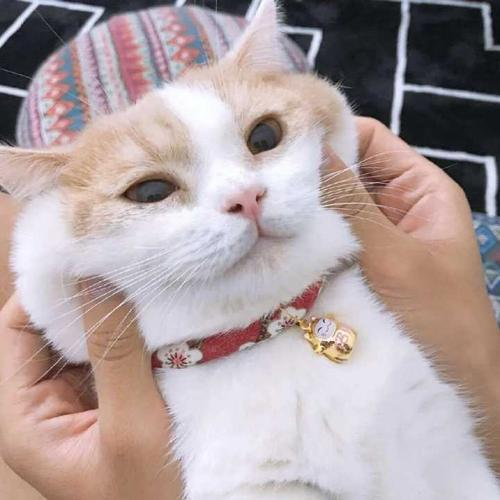cat: (15, 23, 370, 353)
